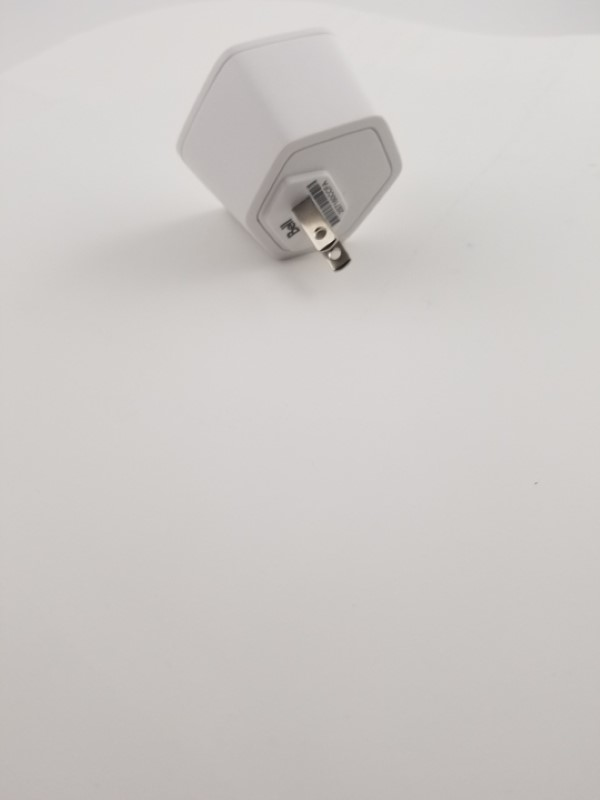pod: (175, 23, 411, 281)
